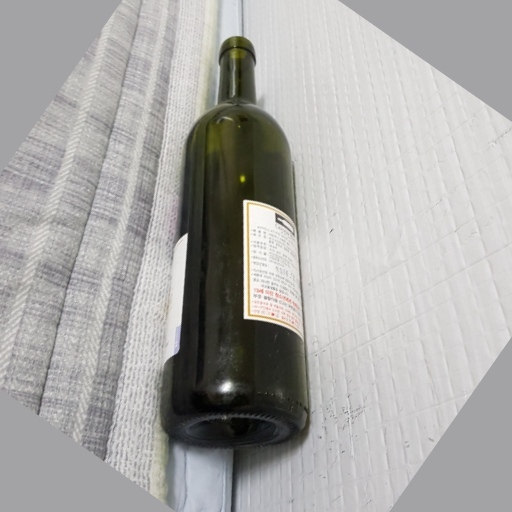Glass_2: (161, 32, 313, 452)
